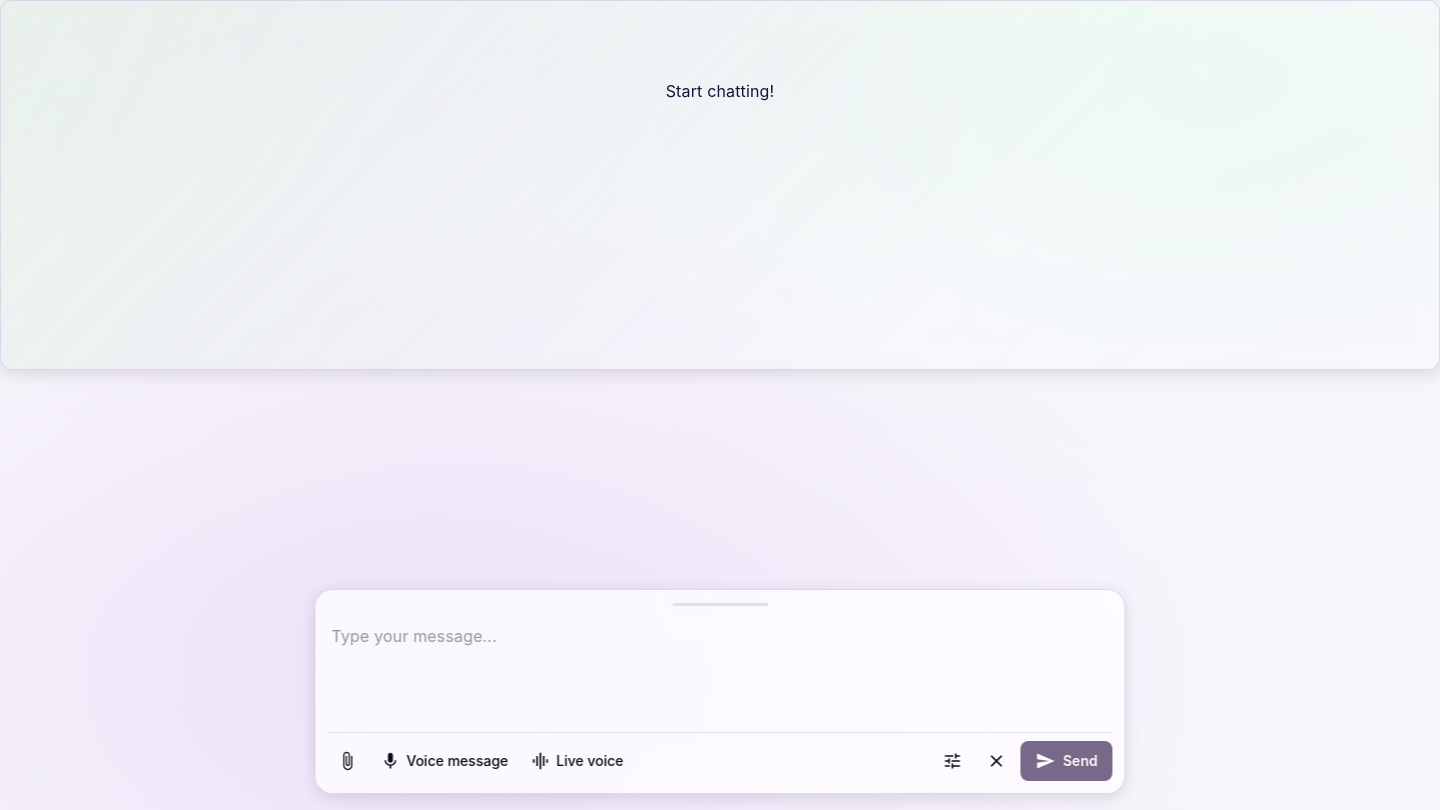
Chat vision integration › shows the browser camera permission detail when access is denied
This screenshot has width=1440, height=810.
Step 1. Click the button named "open attachments" → (347, 761), box x1=327 y1=741 x2=367 y2=781
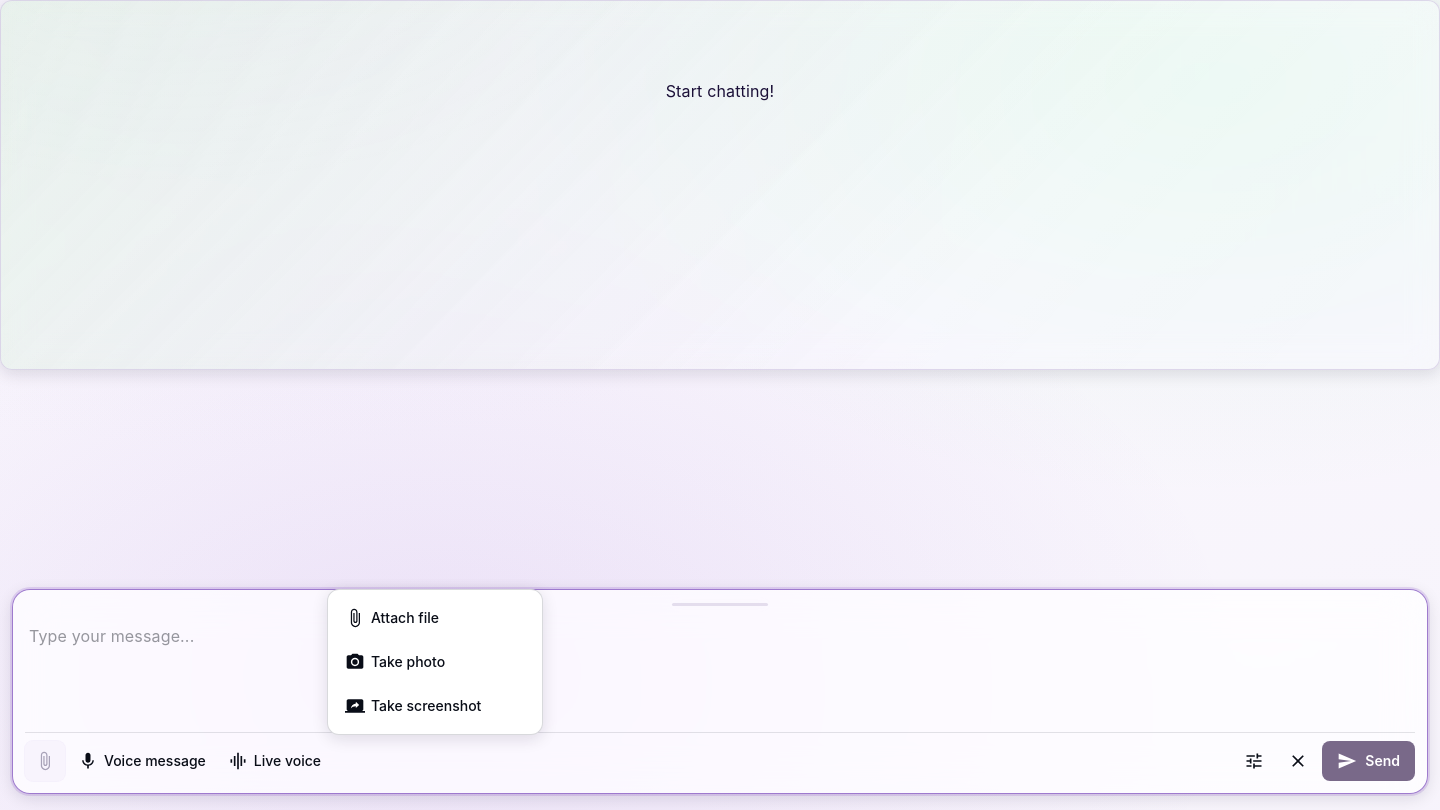
Step 2. Click the button "Take photo" → (435, 662), box x1=336 y1=642 x2=534 y2=682
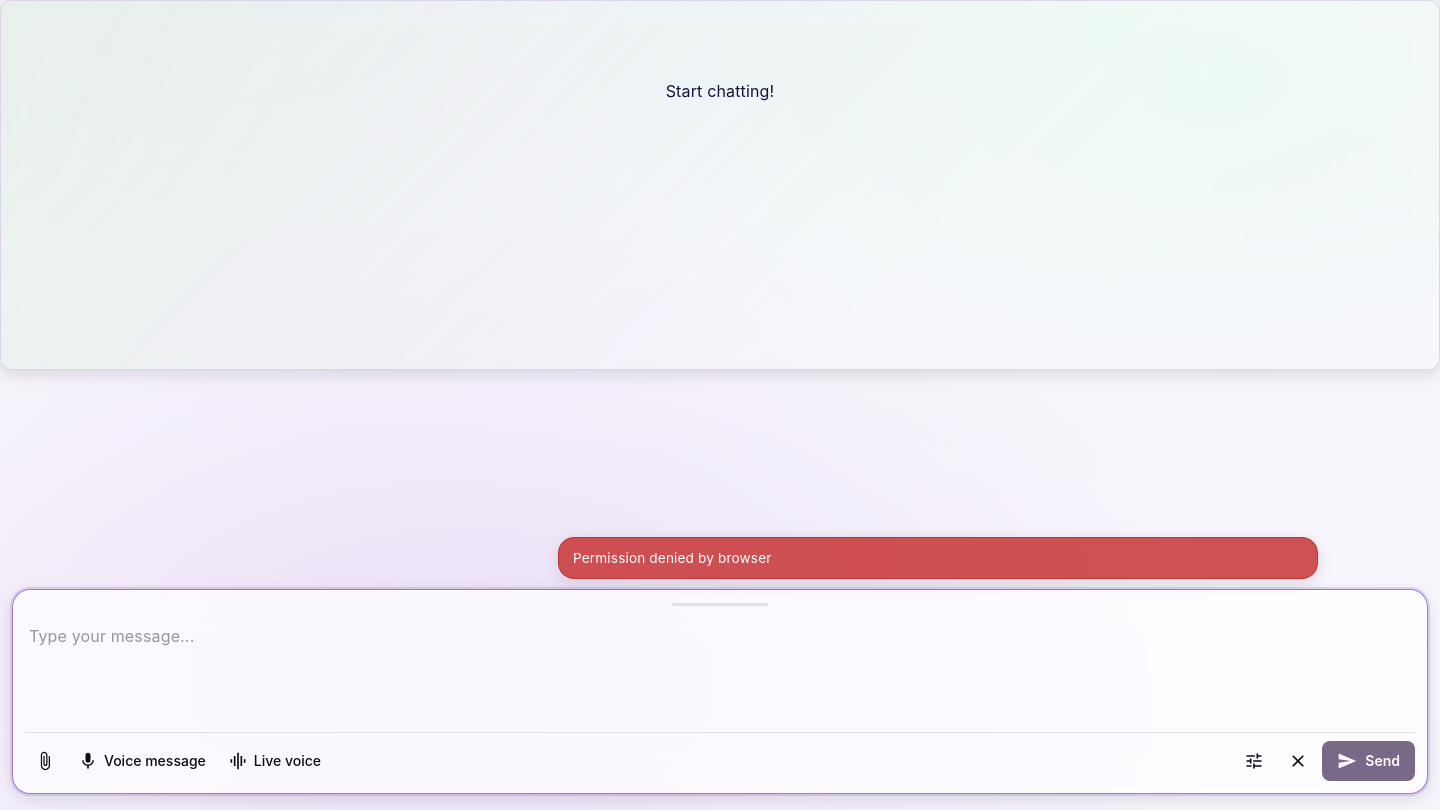
Expected: the message reads "Permission denied by browser", x1=573 y1=550 x2=772 y2=566
